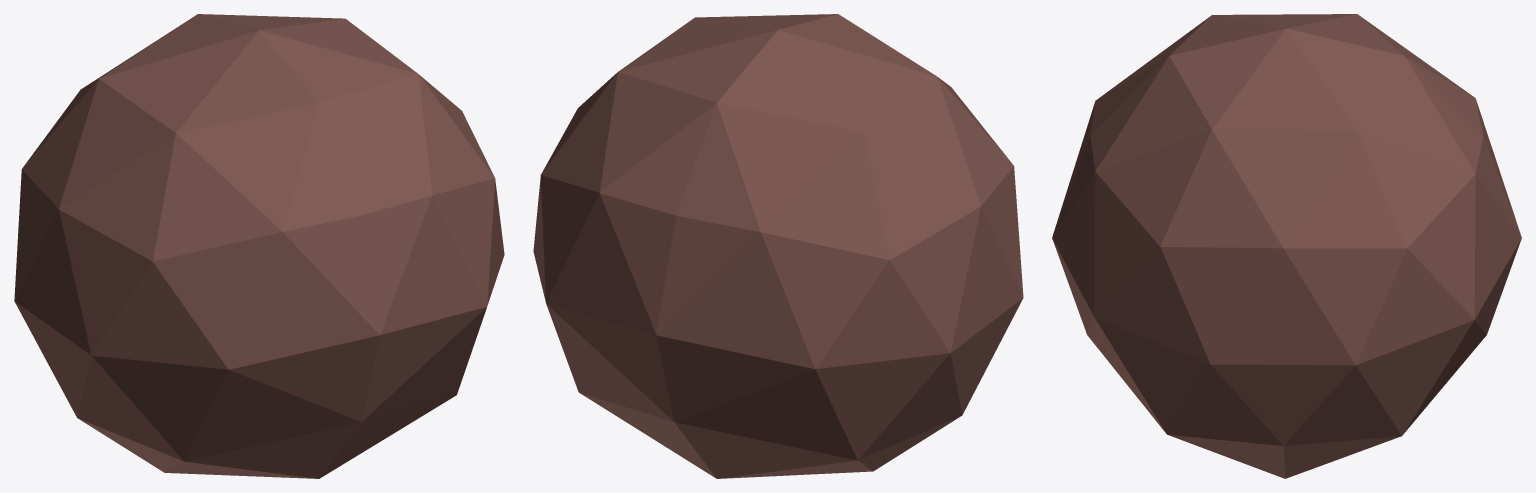
The model's file is quaternius-crops-palm-tree-crop.glb.
3 views of the same model, side by side, from view 1: azimuth 30°, elevation 25°; view 2: azimuth 150°, elevation 25°; view 3: azimuth 270°, elevation 25° (orthographic). The views are drawn at different scales.
Visible parts, largest first — view 1: PalmTree_Crop; view 2: PalmTree_Crop; view 3: PalmTree_Crop.
Boxes of the visible parts, bbox=[...] form: PalmTree_Crop: bbox=[14, 14, 504, 478]; PalmTree_Crop: bbox=[533, 14, 1023, 478]; PalmTree_Crop: bbox=[1052, 14, 1521, 478].
Bounding box in the file's own units: 0.2244 × 0.2241 × 0.226.
